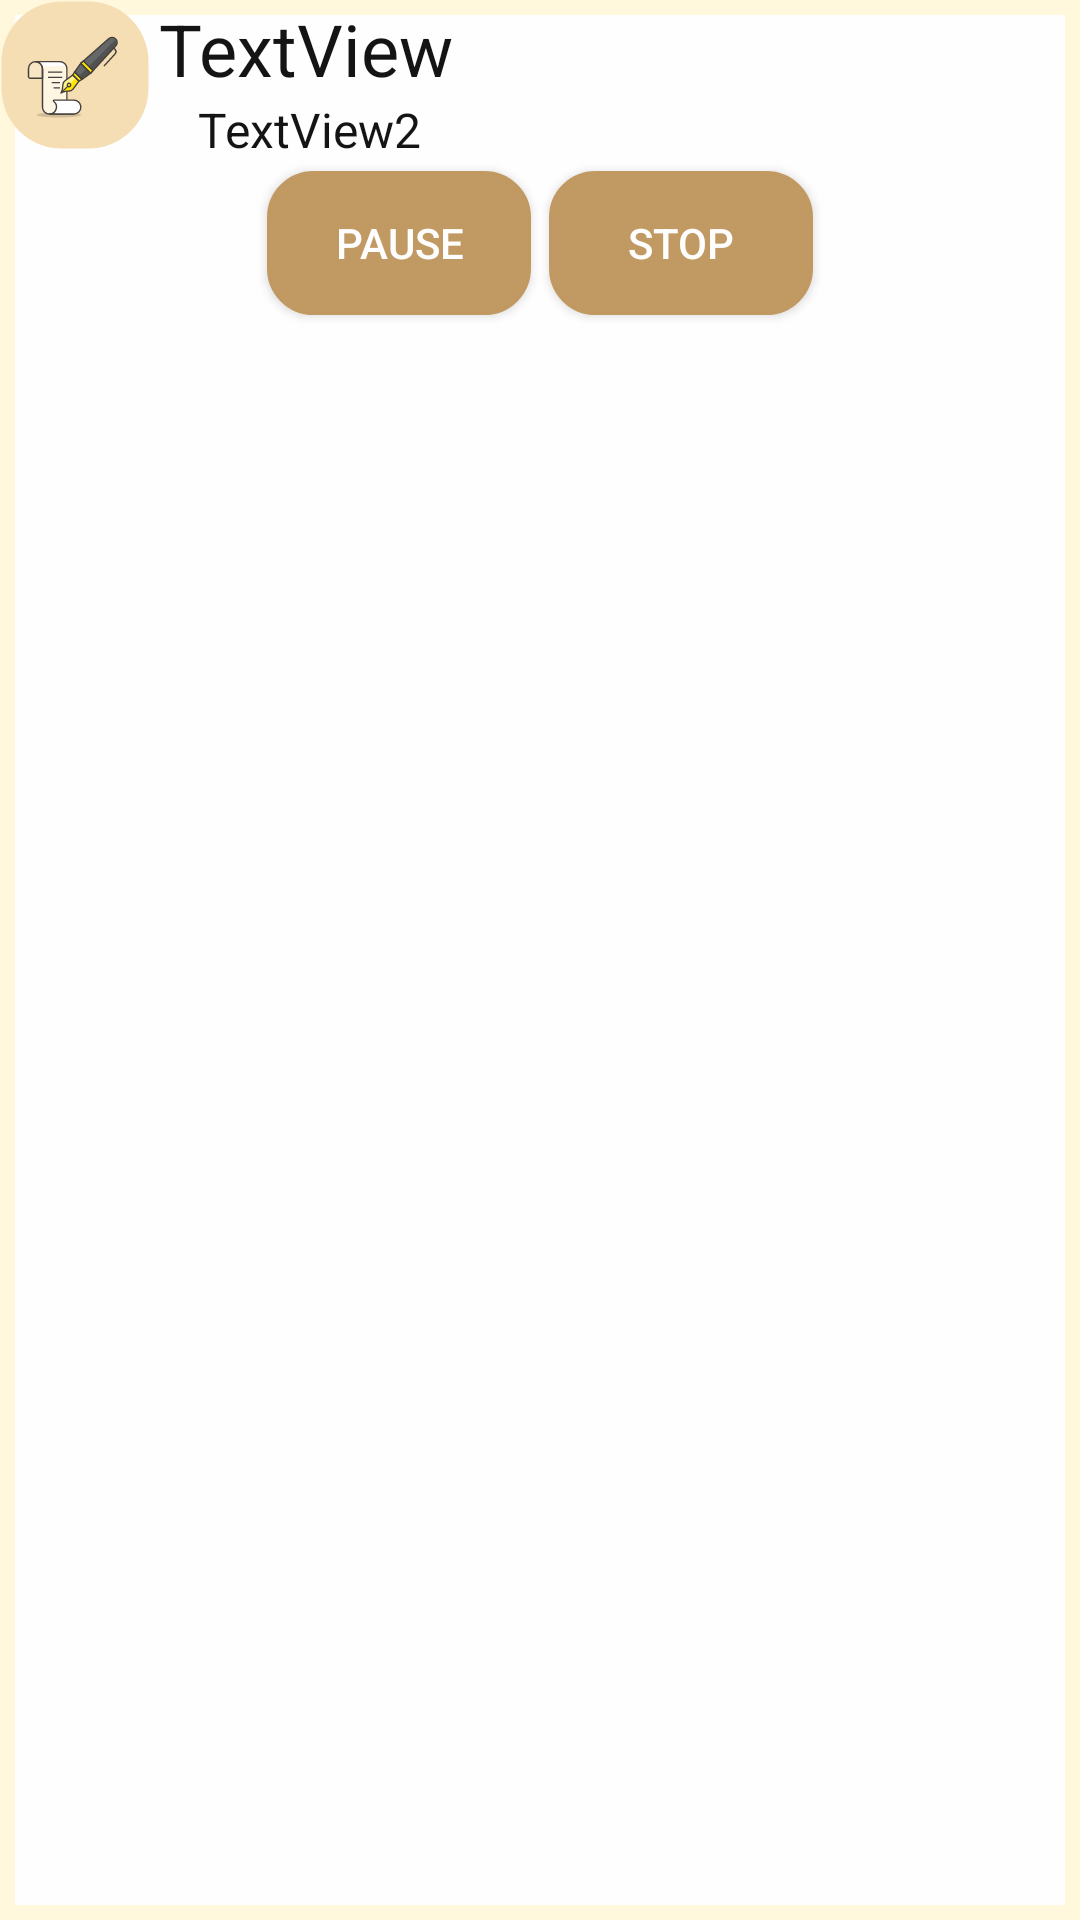

Icon click points for this 1080px x 1920px phone screenshot, format [x,y]:
write paper ink: [75,75]
